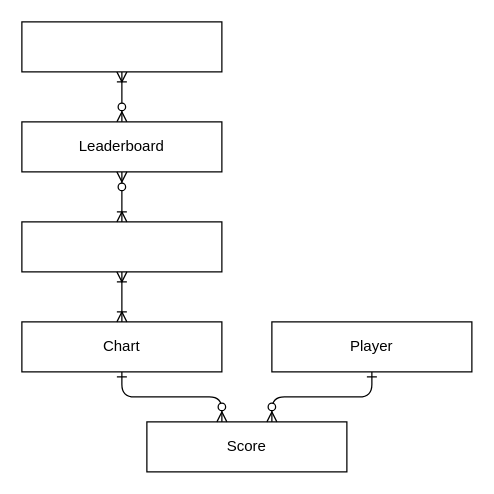
The diagram is 494 pixels wide and 494 high, and some of its shapes have lost their labels. Each missing label, with the centre of its shape:
Community: the point at 121,46
Table: the point at 121,246
